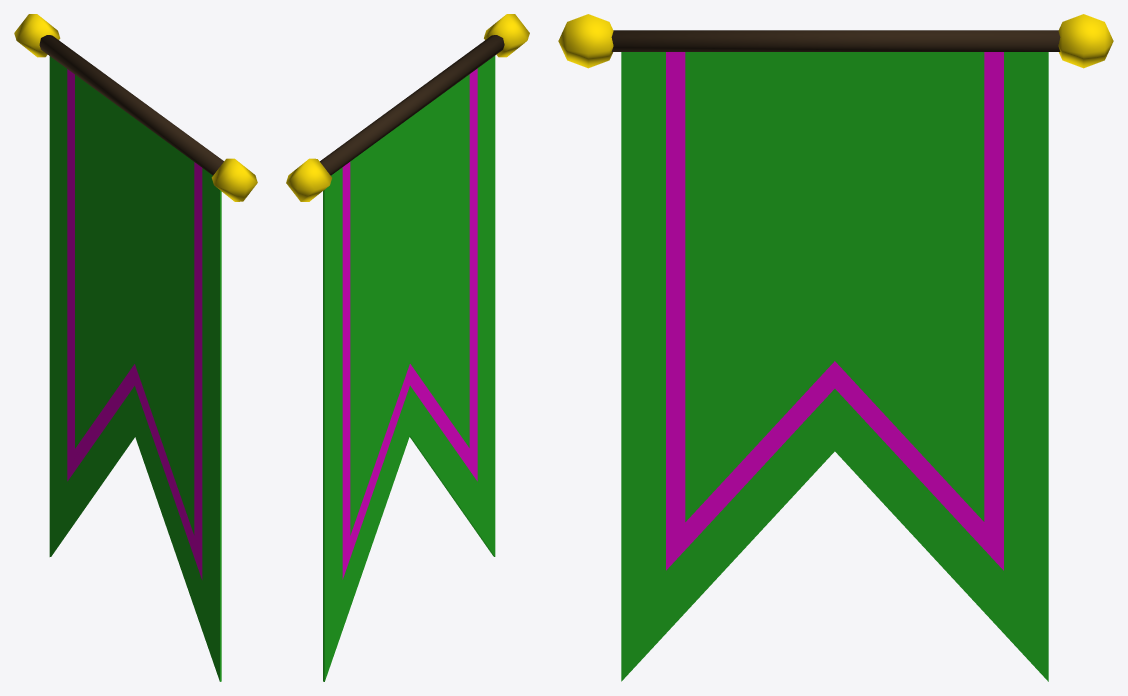
Rendered from Flag_3.fbx.
3 views of the same model, side by side, from view 1: azimuth 30°, elevation 25°; view 2: azimuth 150°, elevation 25°; view 3: azimuth 270°, elevation 25° (orthographic). The views are drawn at different scales.
Parts seen in each view (by area): view 1: Flag_3; view 2: Flag_3; view 3: Flag_3.
Boxes of the visible parts, x1,y1,x2,y2 form: Flag_3: (14,14,257,681); Flag_3: (286,14,529,681); Flag_3: (558,14,1113,681).
Size of the model in its own units: 0.1188 by 1.46 by 1.1.
